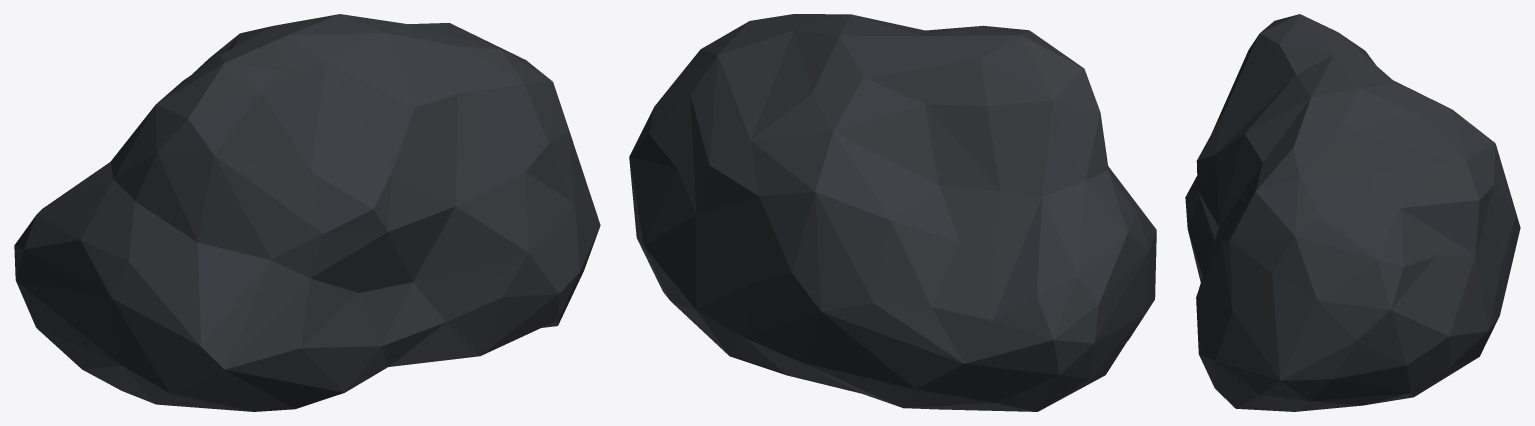
The model's file is Cloud_04.fbx.
The picture shows the model from 3 angles, left to right: view 1: azimuth 30°, elevation 25°; view 2: azimuth 150°, elevation 25°; view 3: azimuth 270°, elevation 25°; orthographic projection. The views are drawn at different scales.
Parts seen in each view (by area): view 1: Cloud_04; view 2: Cloud_04; view 3: Cloud_04.
Part boxes in pixels (bbox=[...]): Cloud_04: bbox=[14, 14, 600, 411]; Cloud_04: bbox=[629, 14, 1156, 411]; Cloud_04: bbox=[1185, 14, 1520, 411].
Bounding box in the file's own units: 3.38 × 2.11 × 2.22.
